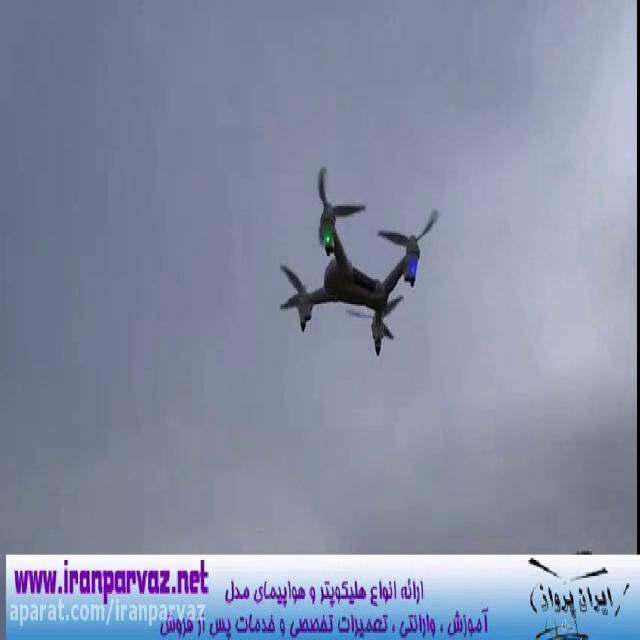drone: (276, 162, 443, 359)
